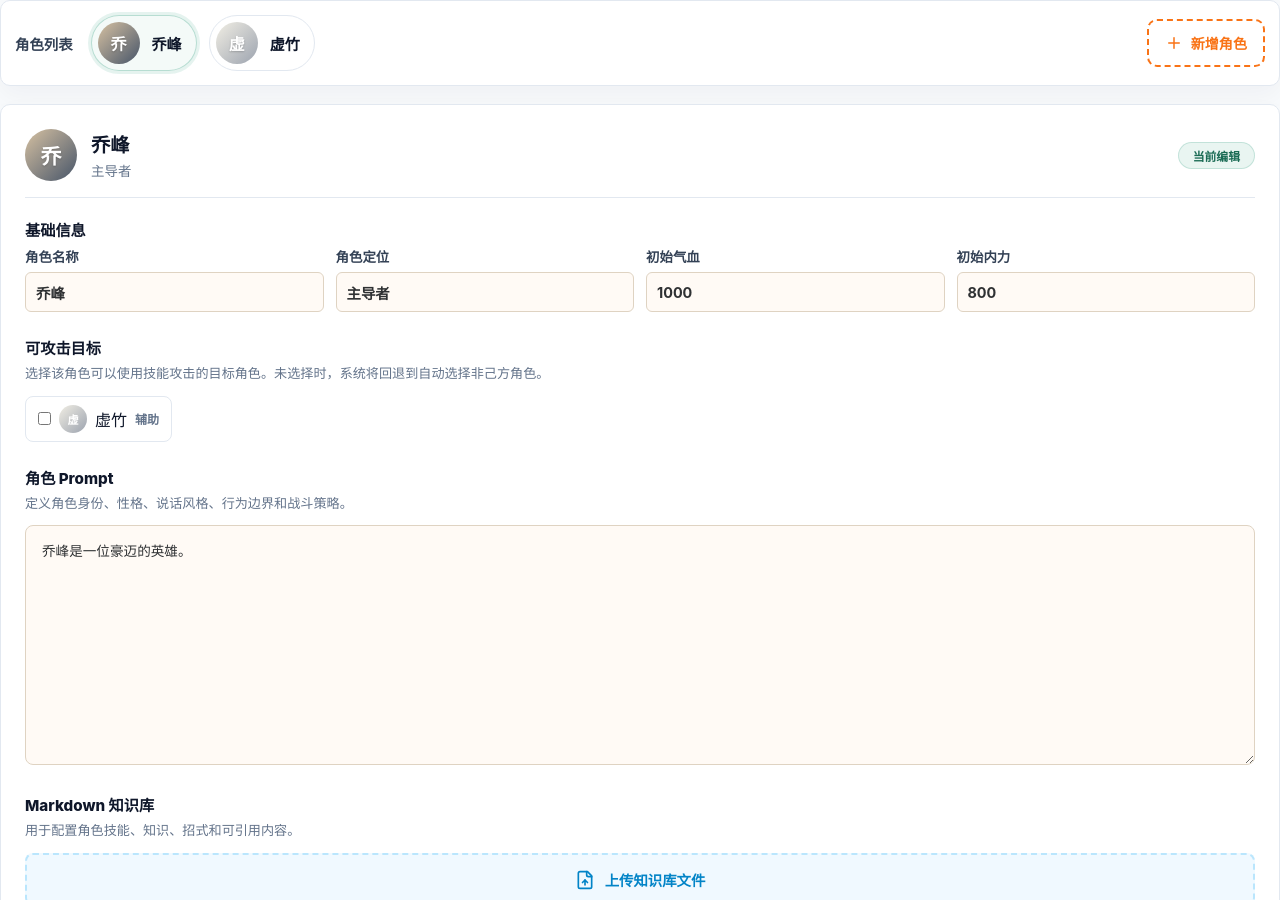
Test: CharacterConfigPanel › clicking a character opens the editor panel with their details
Expected: the text "当前编辑" is shown, [1178,142,1255,168]
Expected: the field showing "乔峰" is shown, [25,272,324,312]
# Click the other character in the sidebar
Click the button with aria-label "编辑角色 虚竹": (262, 43) [209,15,315,71]
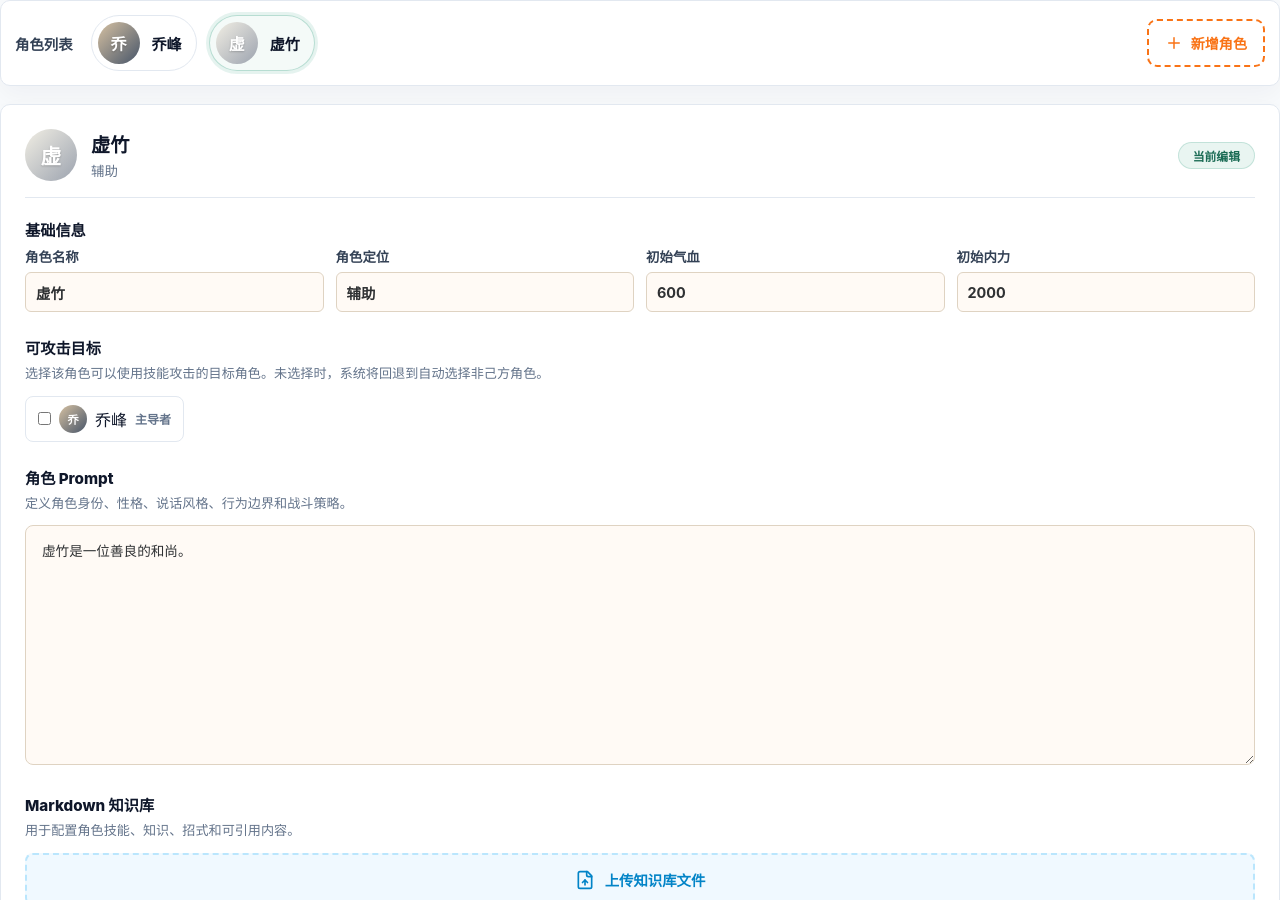
Now the field showing "虚竹" is shown, box [25,272,324,312]
Now the field showing "辅助" is shown, box [336,272,634,312]
